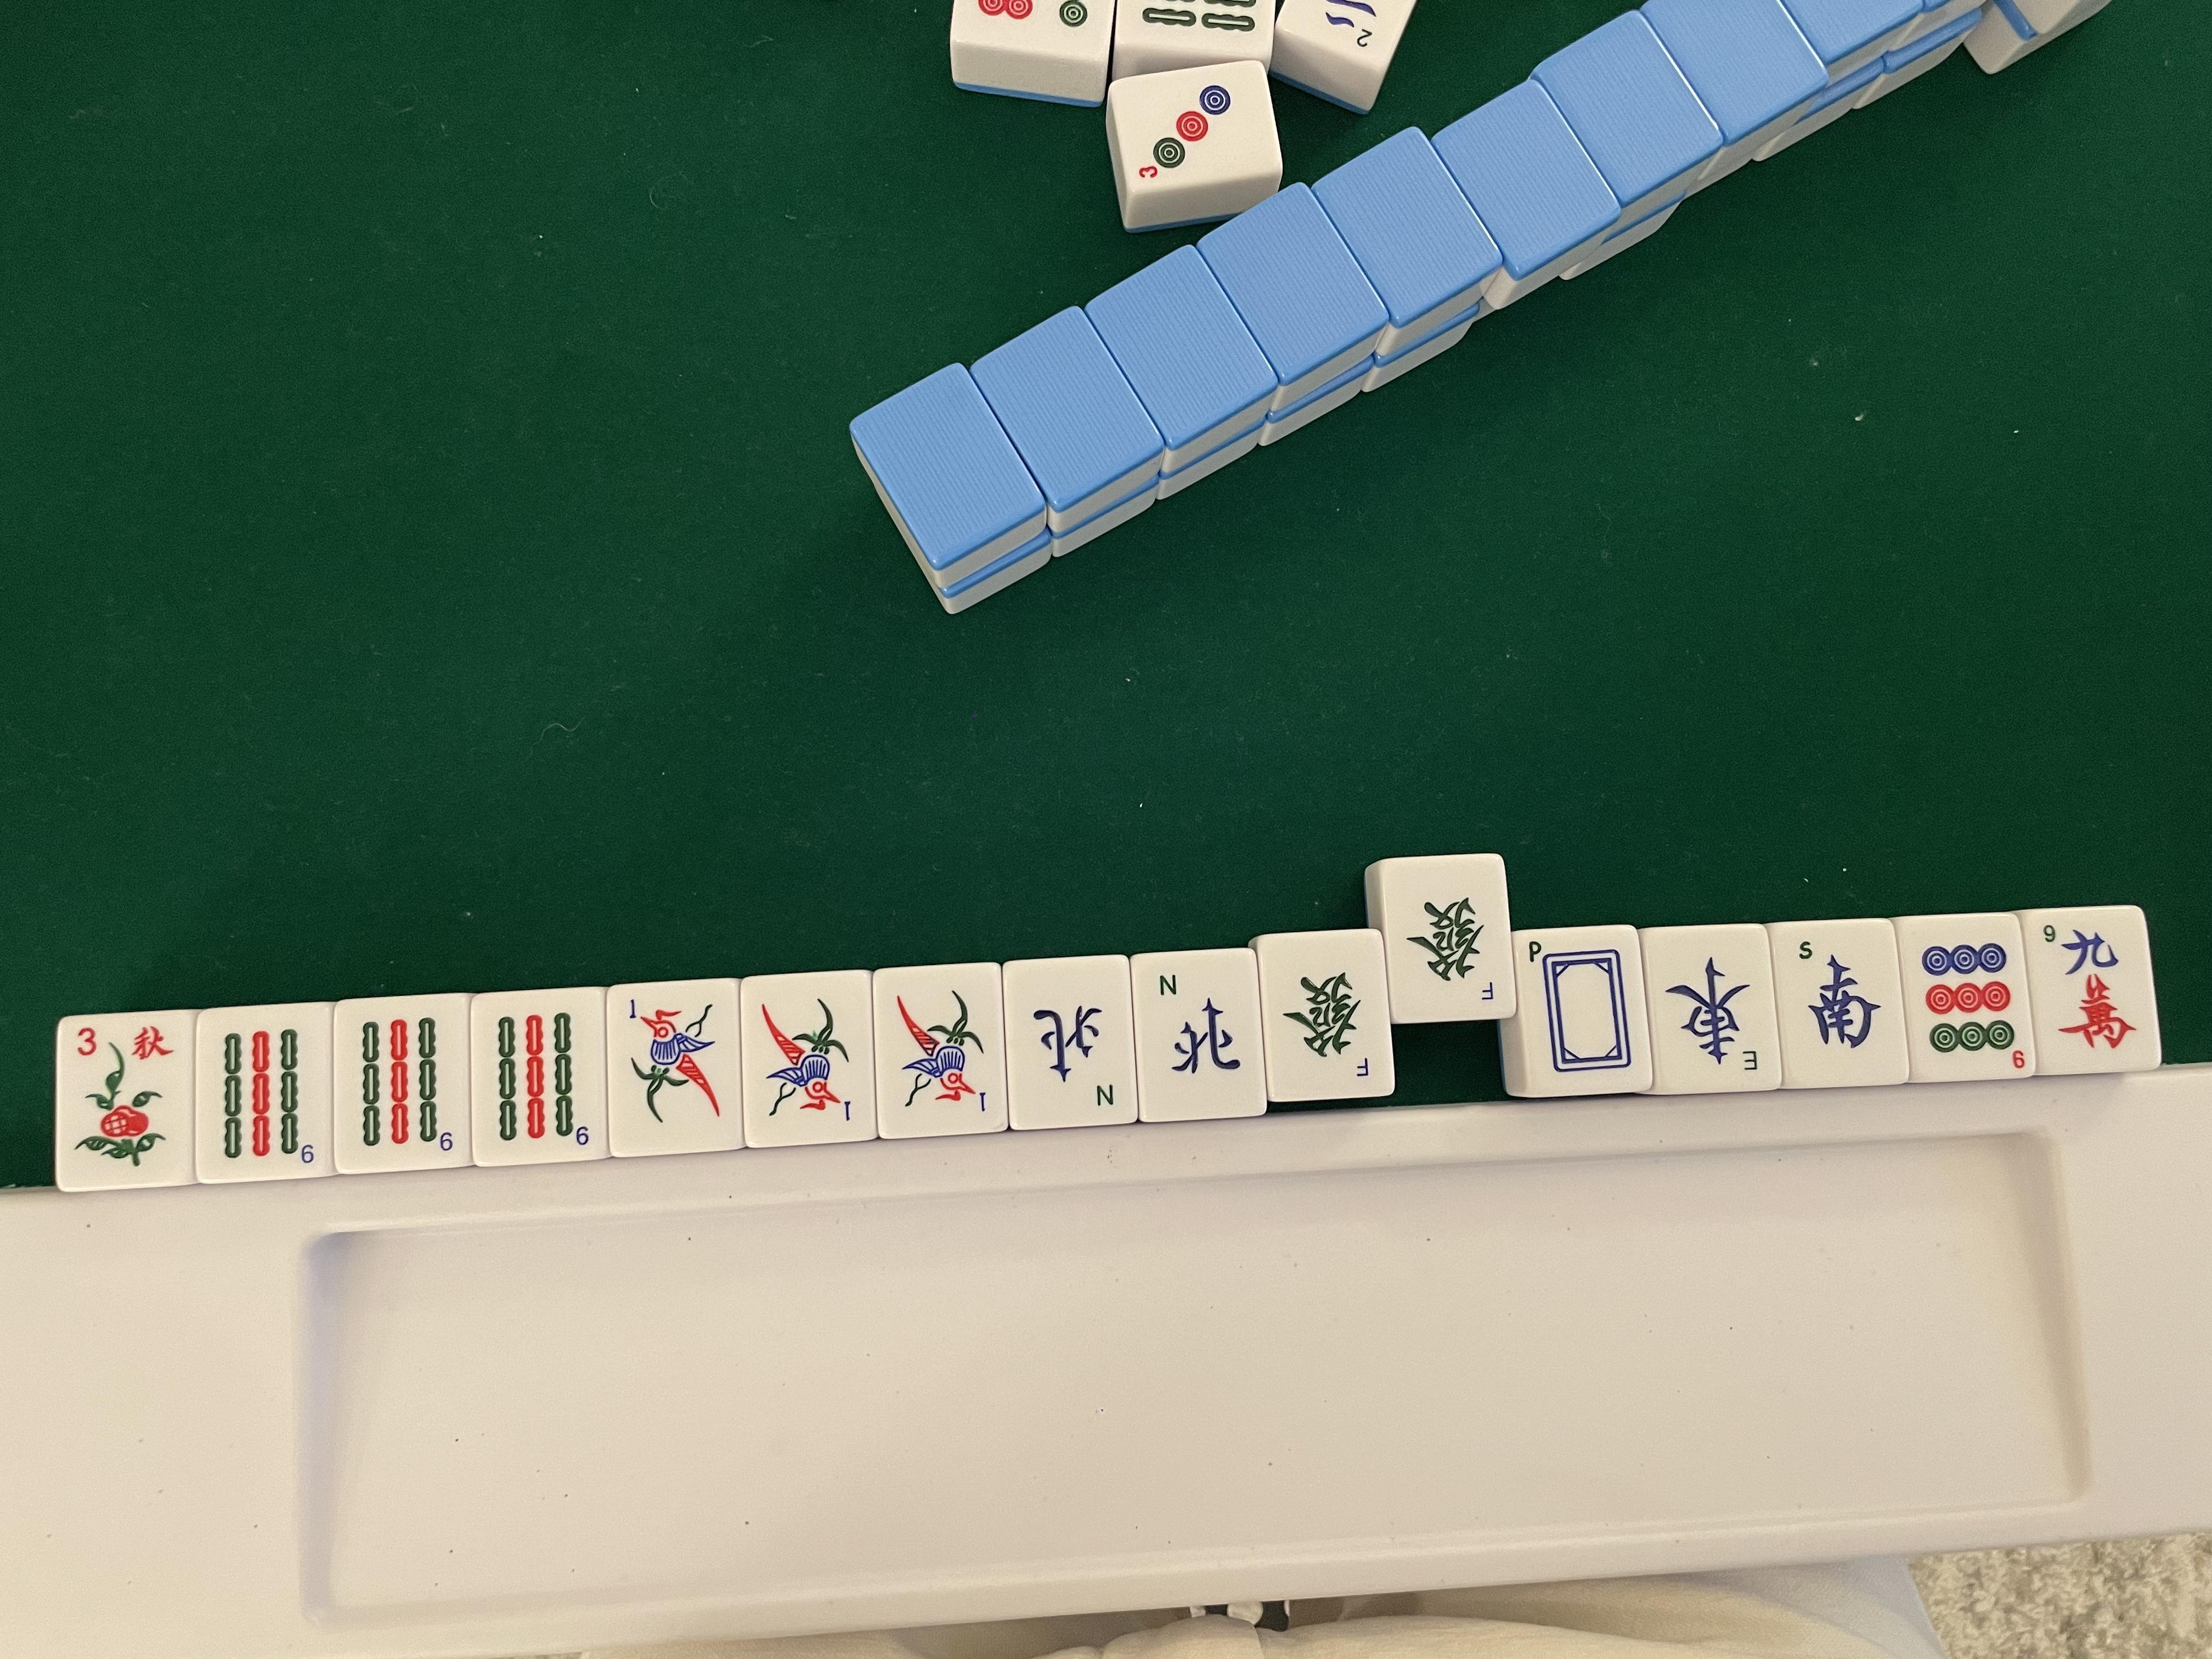bamboo-nine: (206, 1019, 324, 1180), (481, 1002, 601, 1148), (347, 1009, 456, 1155)
bamboo-one: (751, 985, 869, 1134), (617, 993, 730, 1133), (890, 981, 993, 1122)
character-nine: (2040, 917, 2144, 1058)
circle-nine: (1911, 932, 2026, 1077)
flower-red_three: (68, 1019, 183, 1178)
honor-blue_dragon: (1526, 934, 1644, 1080)
honor-east_wind: (1663, 946, 1764, 1080)
honor-green_dragon: (1284, 946, 1376, 1082), (1409, 871, 1498, 1006)
honor-north_wind: (1151, 967, 1254, 1100), (1029, 978, 1125, 1114)
honor-south_wind: (1792, 931, 1885, 1075)
